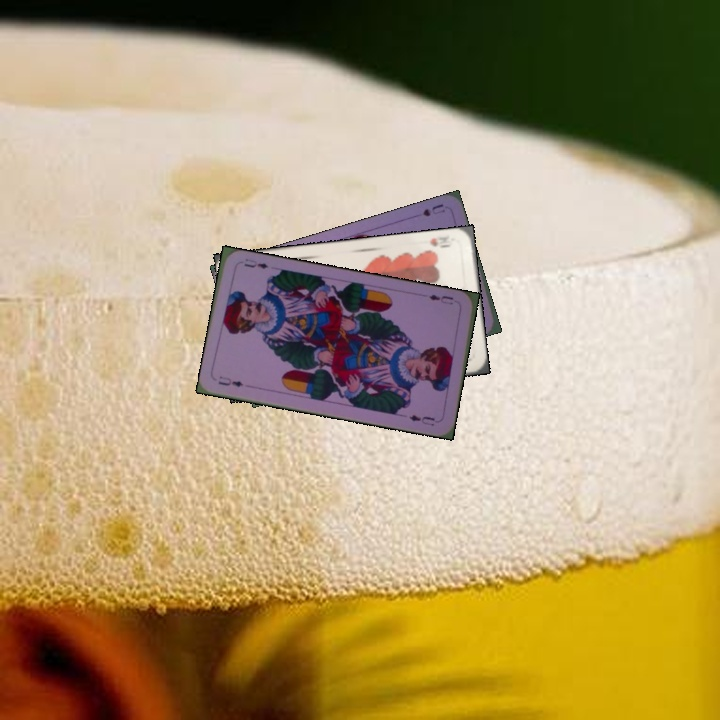EU: (214, 372, 246, 389), (425, 290, 456, 307)
H10: (426, 233, 454, 250)
SU: (418, 200, 448, 219)
